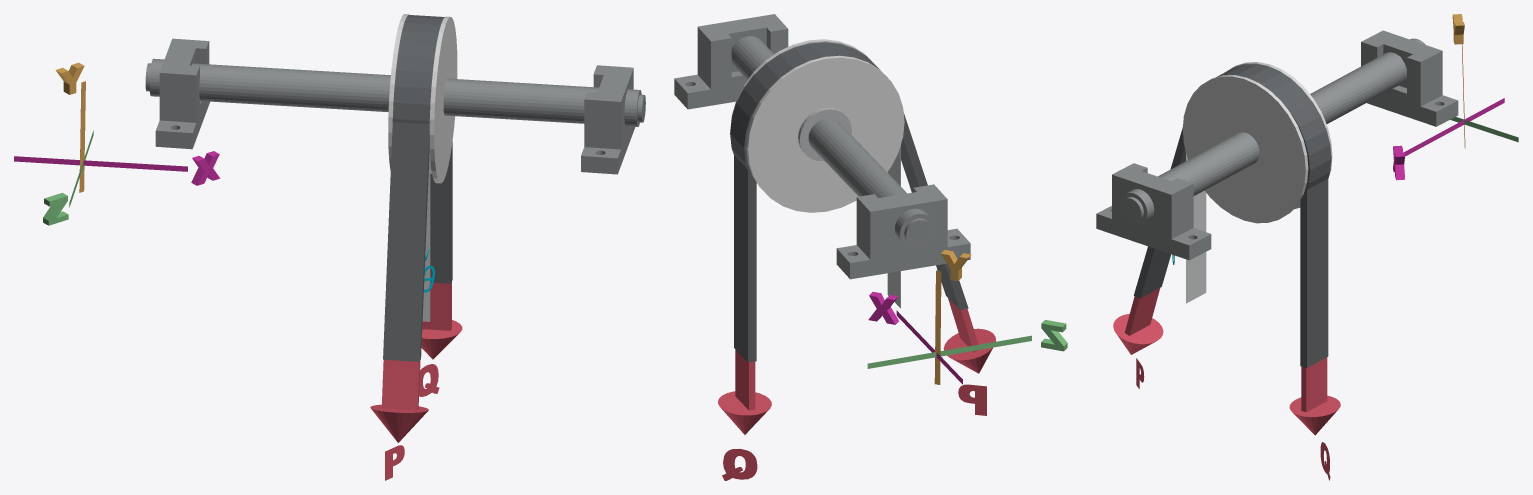
The model's file is U2_PulleySingle3d.glb.
3 renders of one model, left to right at view 1: azimuth 30°, elevation 25°; view 2: azimuth 150°, elevation 25°; view 3: azimuth 270°, elevation 25°, orthographic. The views are drawn at different scales.
Parts seen in each view (by area): view 1: Mesh_Mesh_head_geo.001_lambert2SG.001; view 2: Mesh_Mesh_head_geo.001_lambert2SG.001; view 3: Mesh_Mesh_head_geo.001_lambert2SG.001.
Boxes of the visible parts, <box> form: Mesh_Mesh_head_geo.001_lambert2SG.001: <box>14,14,645,480</box>; Mesh_Mesh_head_geo.001_lambert2SG.001: <box>674,14,1067,480</box>; Mesh_Mesh_head_geo.001_lambert2SG.001: <box>1096,14,1518,480</box>.
Bounding box in the file's own units: 96.74 × 77.67 × 77.26.
